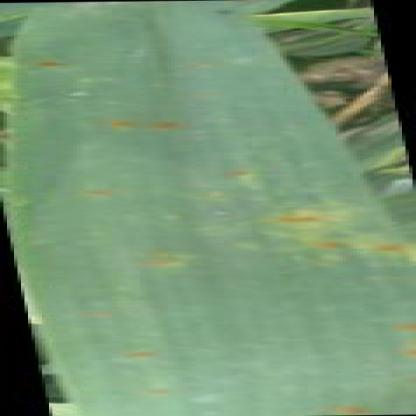Wheat Brown-rust: (213, 206, 409, 279), (77, 109, 247, 144), (345, 314, 415, 362), (104, 346, 234, 371), (46, 304, 165, 327), (108, 245, 185, 278), (47, 184, 152, 208), (186, 164, 294, 187), (256, 399, 400, 415), (120, 382, 207, 404), (26, 57, 100, 82)
